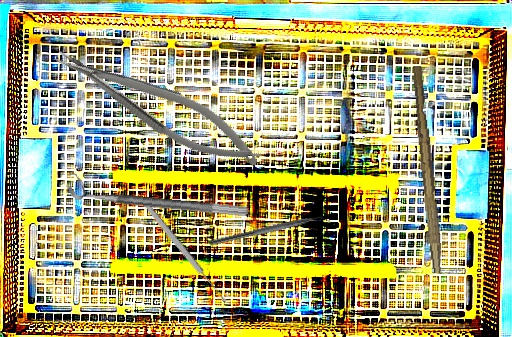Chopper: (209, 210, 334, 254)
Fixation Ring: (65, 172, 250, 218)
Needle Holder: (48, 29, 269, 183)
Scalpel Handle: (407, 65, 449, 274)
Surgical Spoon: (140, 199, 229, 305)
